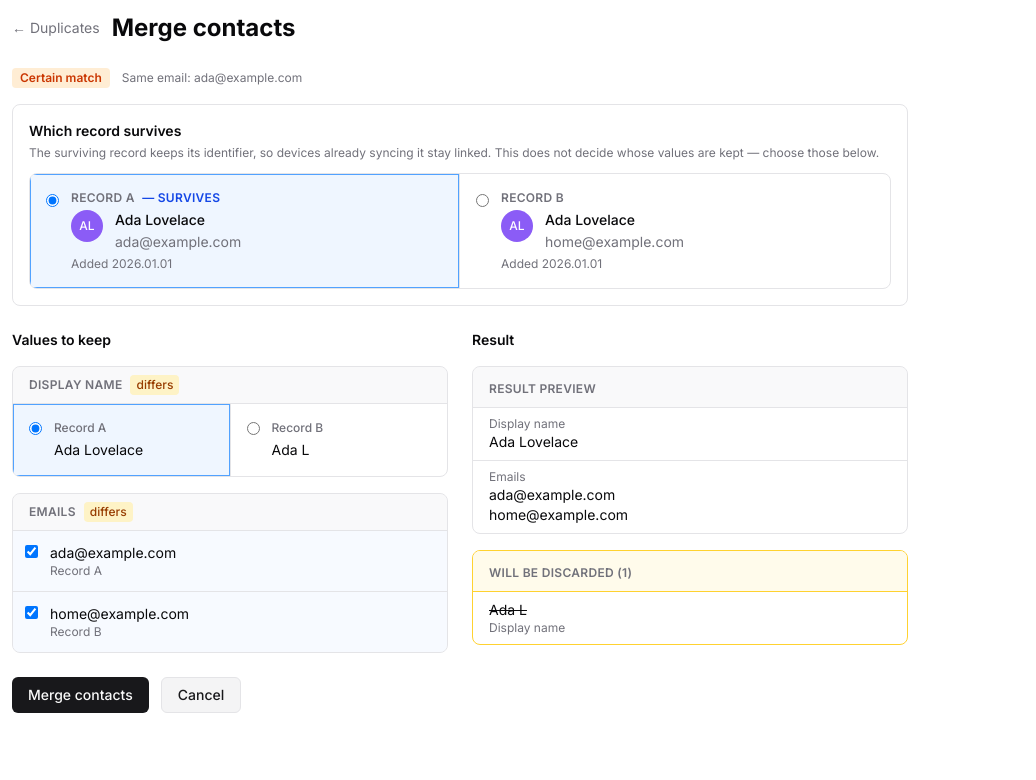
Test: ContactMergeView › moves a deselected value into the discard list
This screenshot has width=1036, height=780.
Click the checkbox labelled "home@example.com Record B": (32, 612) [25,606,38,619]
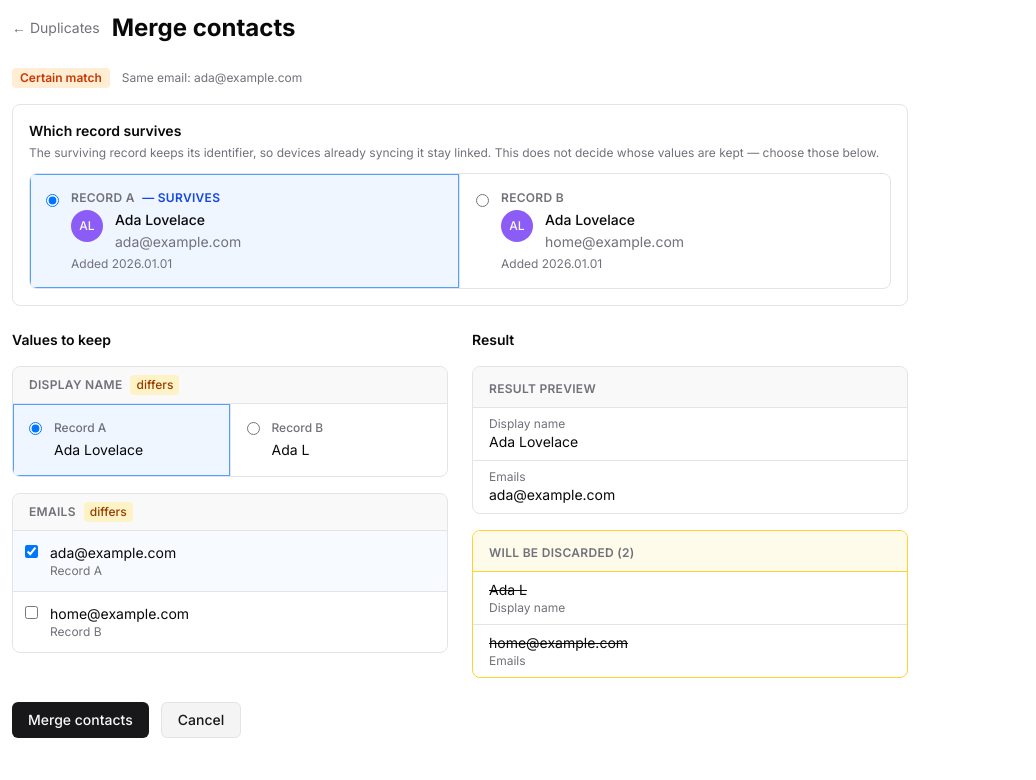
Check: the text "home@example.com" is shown, box [545,232,684,252]
Check: the text "Will be discarded (2)" is shown, box [489,545,635,560]
